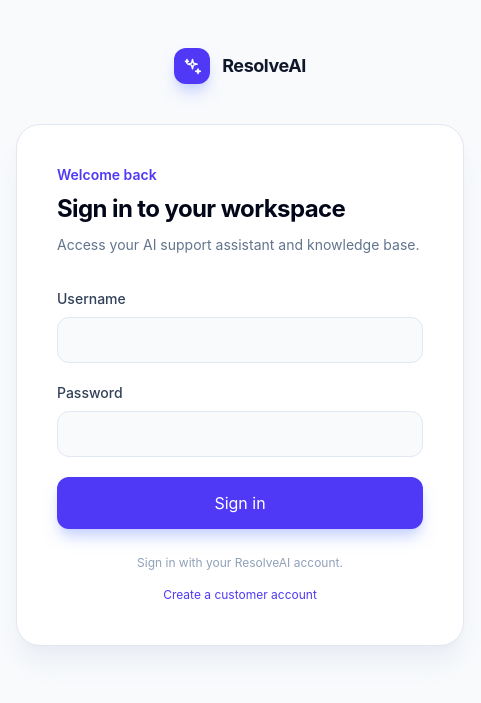
App authentication and customer dashboard › shows an error when login credentials are invalid
Type "wronguser" into the field labelled "Username".
click(240, 340); type("wronguser")  # box [57, 317, 423, 363]
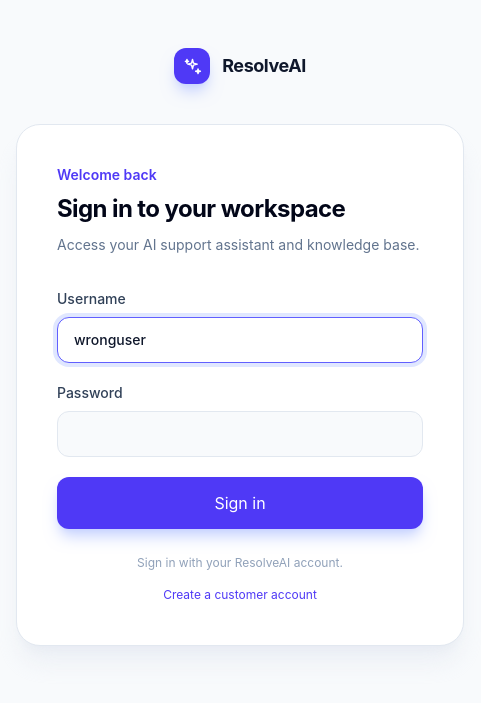
Type "wrongpassword" into the password field labelled "Password".
click(240, 434); type("wrongpassword")  # box [57, 411, 423, 457]
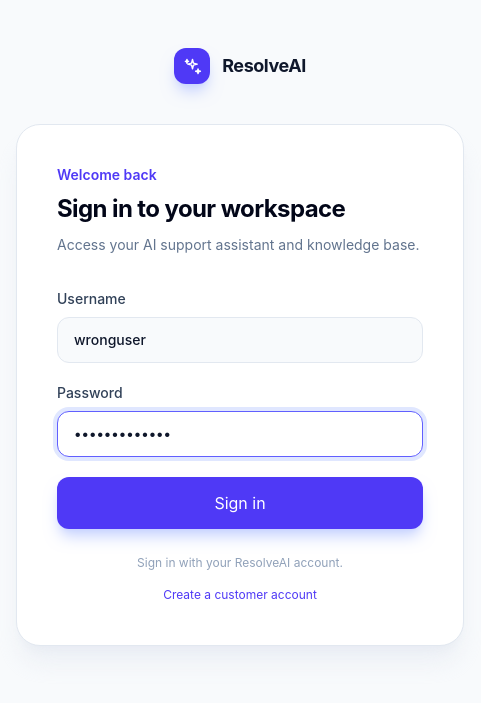
Click the button "Sign in".
click(240, 503)  # box [57, 477, 423, 529]
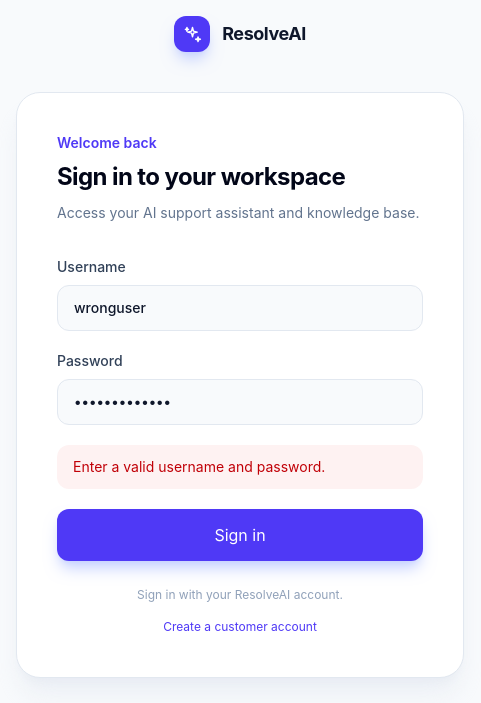
Check: the text "Enter a valid username and password." is shown, box [57, 445, 423, 489]
